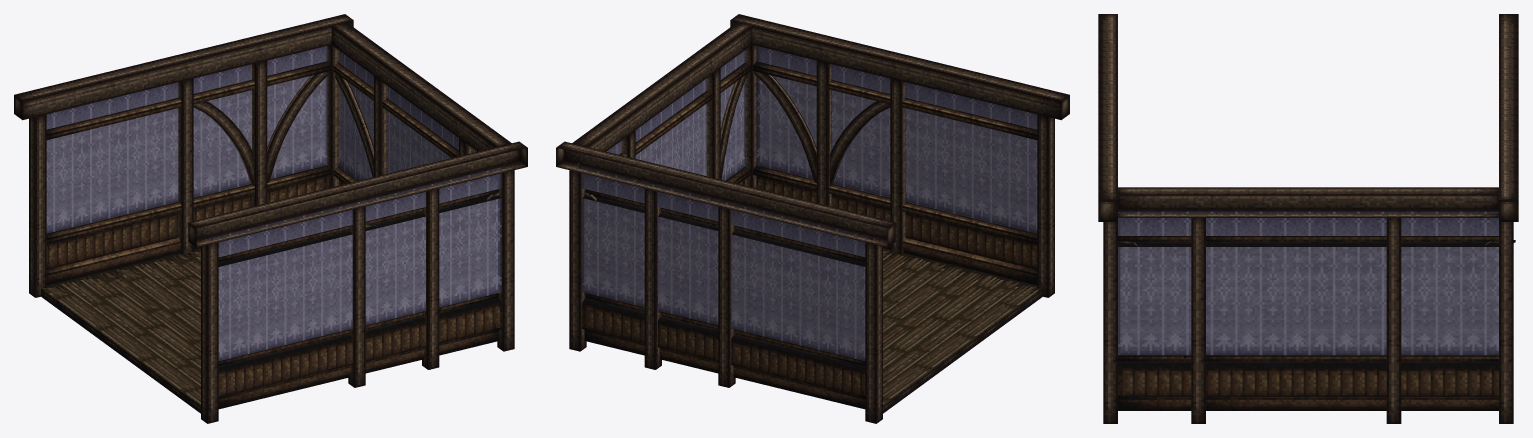
File: EnvBdgMD_City_C_Indoor_House_A.FBX
3 renders of one model, left to right at view 1: azimuth 30°, elevation 25°; view 2: azimuth 150°, elevation 25°; view 3: azimuth 270°, elevation 25°, orthographic. The views are drawn at different scales.
Parts seen in each view (by area): view 1: EnvBdgMD_City_C_Indoor_House_A; view 2: EnvBdgMD_City_C_Indoor_House_A; view 3: EnvBdgMD_City_C_Indoor_House_A.
Boxes of the visible parts, bbox=[...] form: EnvBdgMD_City_C_Indoor_House_A: bbox=[14, 14, 527, 423]; EnvBdgMD_City_C_Indoor_House_A: bbox=[556, 14, 1069, 423]; EnvBdgMD_City_C_Indoor_House_A: bbox=[1098, 14, 1518, 423].
Bounding box in the file's own units: 900 × 520 × 860.
